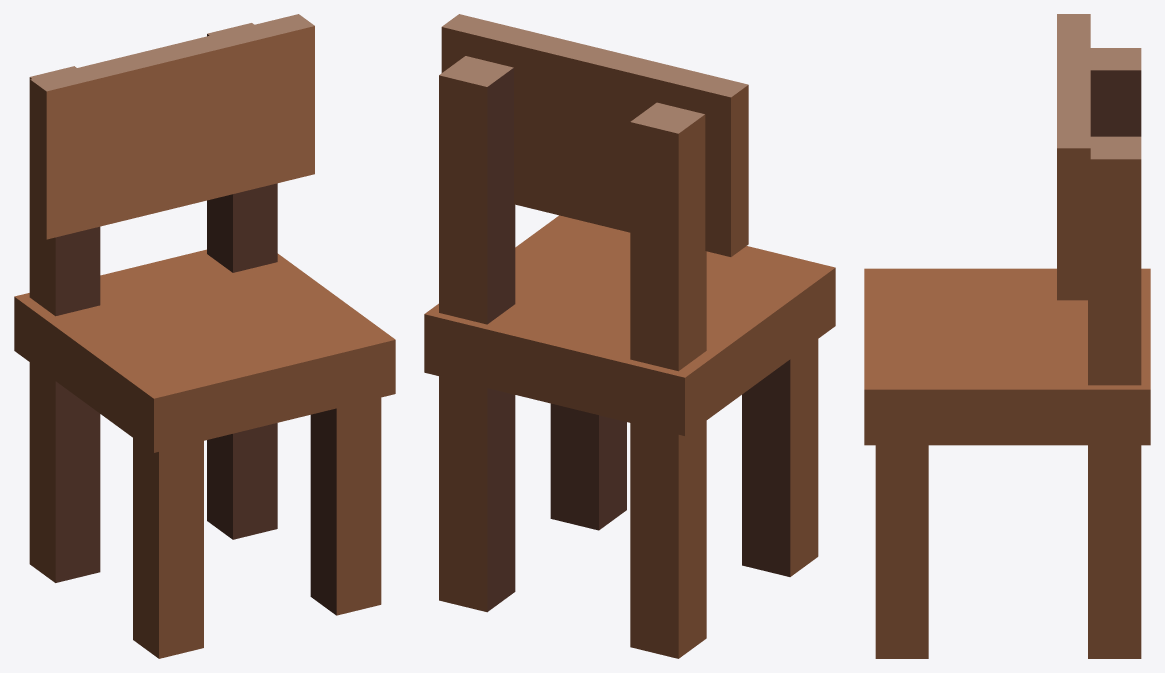
File: TB_Prop_Chair.FBX
3 renders of one model, left to right at view 1: azimuth 30°, elevation 25°; view 2: azimuth 150°, elevation 25°; view 3: azimuth 270°, elevation 25°, orthographic. The views are drawn at different scales.
Visible parts, largest first — view 1: TB_Prop_Chair; view 2: TB_Prop_Chair; view 3: TB_Prop_Chair.
Boxes of the visible parts, <box> form: TB_Prop_Chair: <box>14,14,395,658</box>; TB_Prop_Chair: <box>424,14,835,658</box>; TB_Prop_Chair: <box>864,14,1150,658</box>.
Bounding box in the file's own units: 0.6357 × 1.15 × 0.5726.
